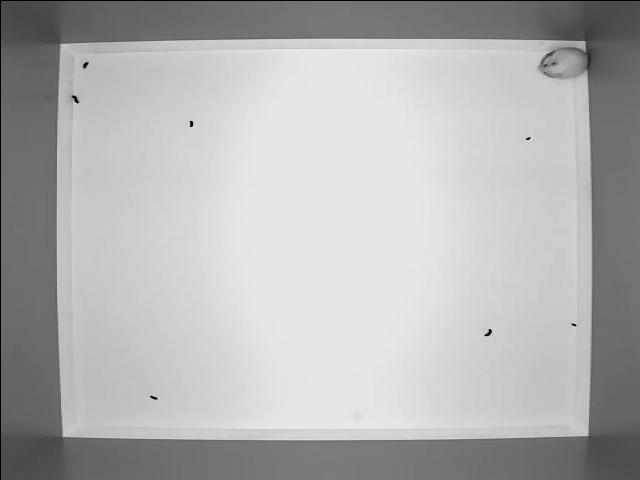Tikus: (532, 44, 590, 82)
